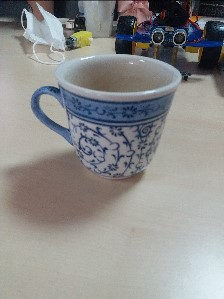cup: (30, 53, 184, 185)
